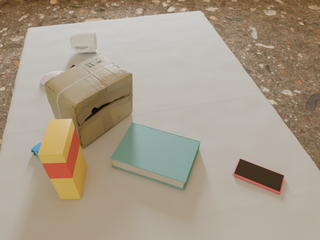book: (110, 123, 200, 190)
box: (44, 54, 133, 147), (38, 119, 87, 199)
cup: (70, 32, 97, 53)
mouse: (41, 71, 64, 85)
phone: (233, 159, 284, 194)
toy_car: (31, 142, 42, 155)
